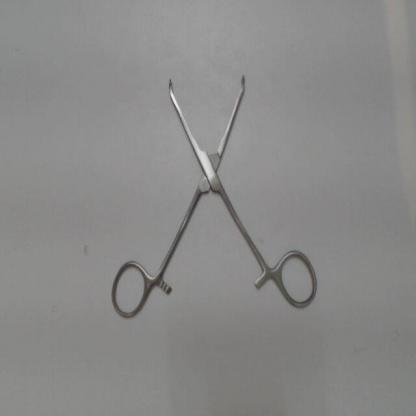Allis Tissue Forceps: (102, 61, 322, 326)
